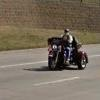Motorcycle: (41, 32, 94, 79)
